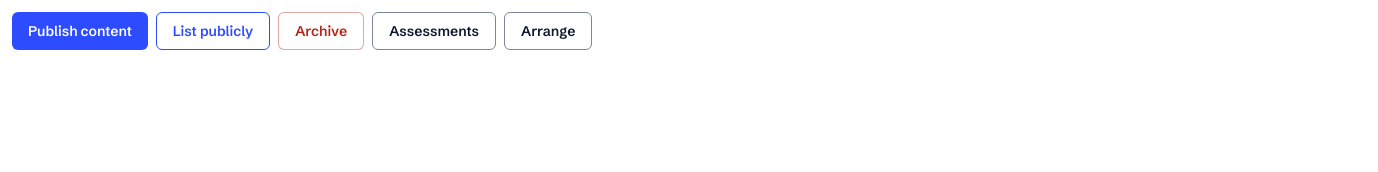
Test: CourseDetailActions — listing transport failure › clears busy and shows a generic retryable error when setListingAction rejects, then a retry succeeds
What coordinates should you click on to do the following:
click the button "List publicly"
I would click on:
 (213, 31)
Its box is 156,12 -> 270,50.
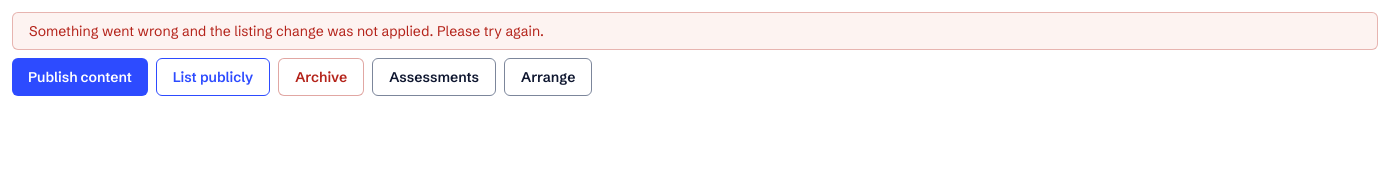
Expected: the message shows "was not applied", 29,22 -> 544,40
What coordinates should you click on to do the following:
click the button "List publicly"
I would click on:
 (213, 77)
Its box is 156,58 -> 270,96.
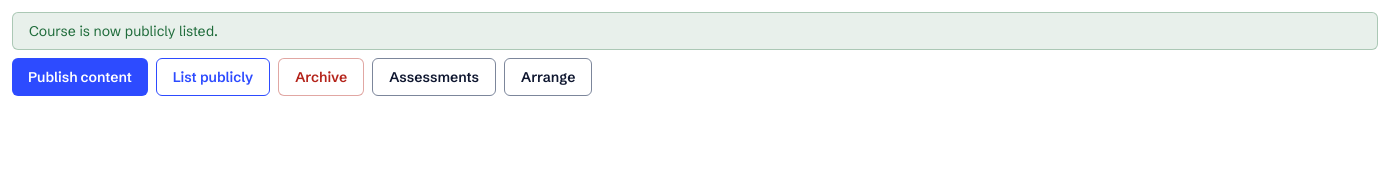
Expected: the text "Course is now publicly listed." is shown, 12,12 -> 1377,50
